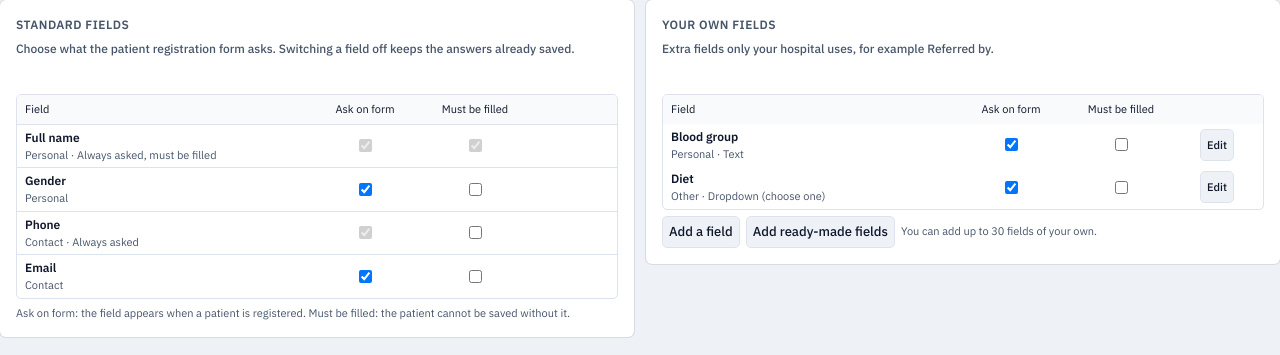
Test: standard fields › forbidden shows the usual message
What coordinates should you click on to do the following:
click the checkbox named "Gender: Must be filled"
I would click on:
 (475, 189)
Its box is [468,183,482,196].
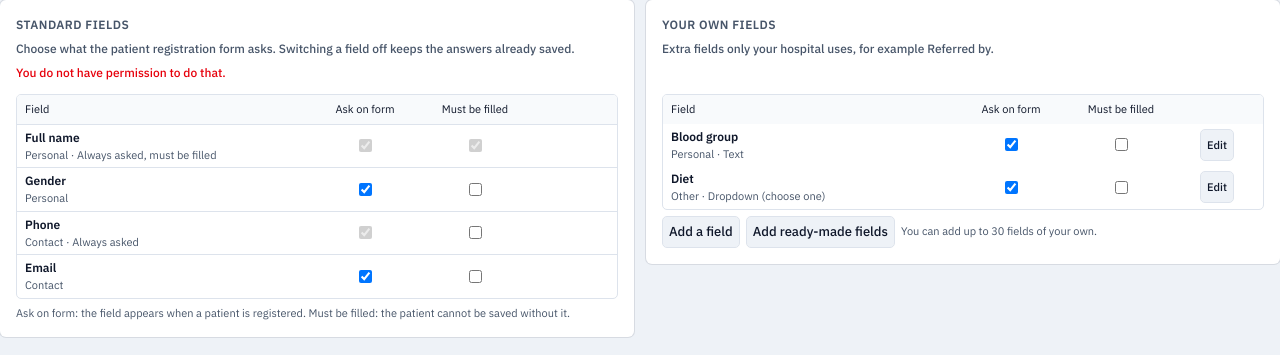
Expected: the message "You do not have permission to do that." is shown, [16,65,226,80]
